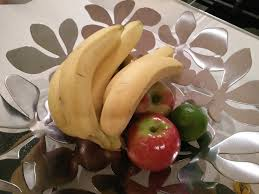banana: (45, 21, 122, 147), (96, 32, 184, 126)
